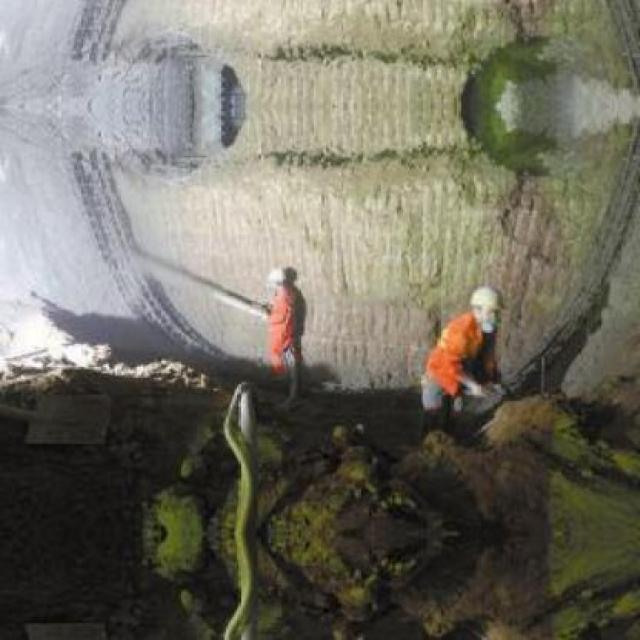Reflective-Jacket: (420, 310, 486, 406), (258, 282, 308, 364)
Safety-Helmet: (458, 278, 512, 326), (274, 260, 304, 286)
